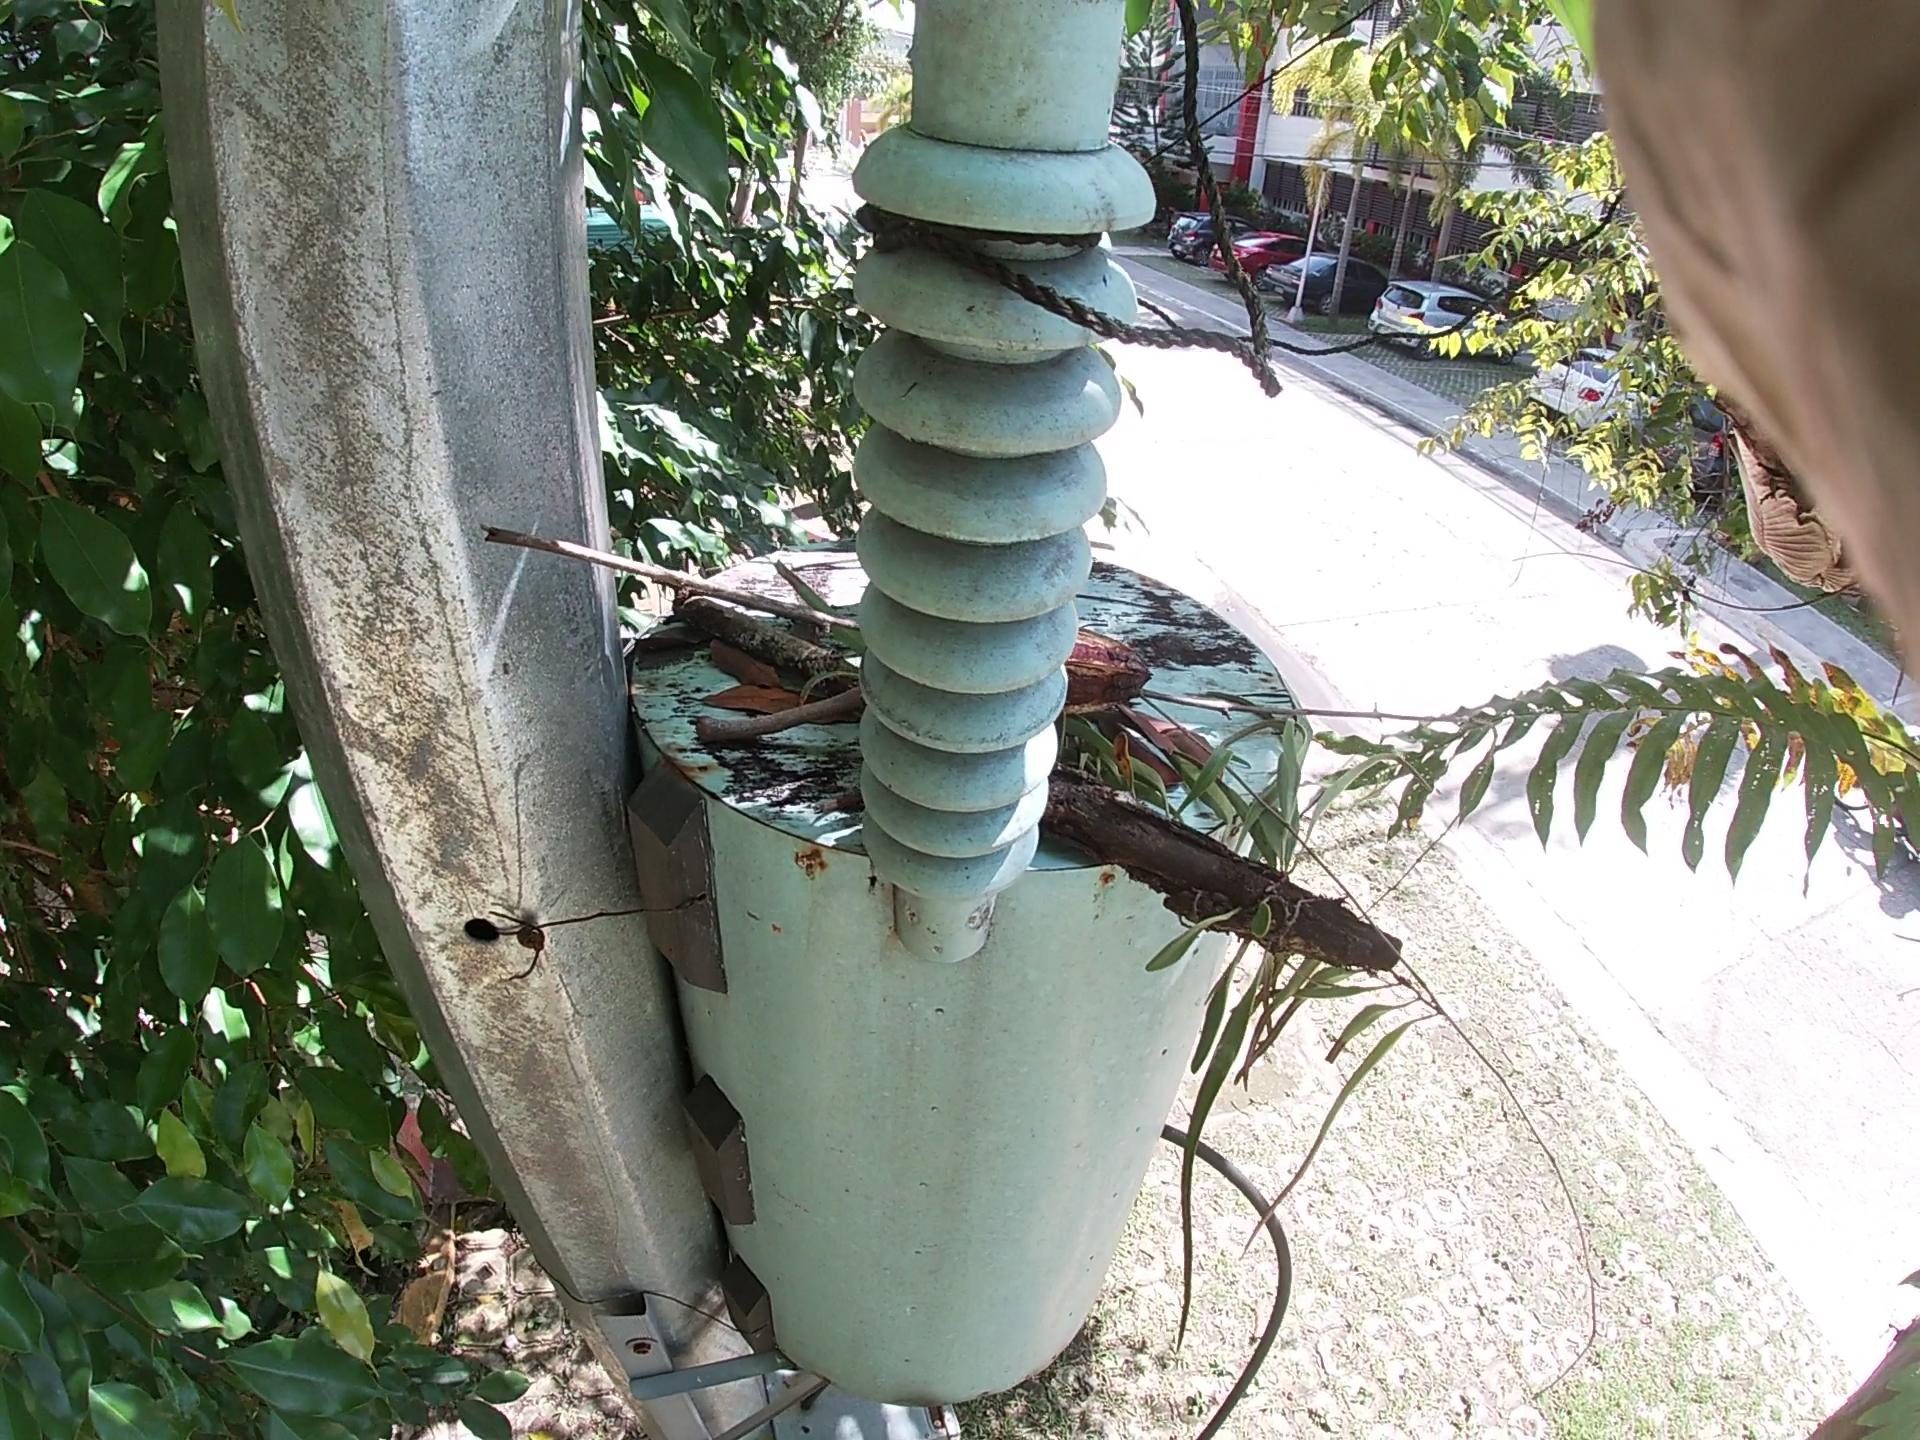branch with leaves: (655, 573, 1407, 982)
leaf: (695, 632, 785, 684), (700, 678, 807, 712)
mahogany fruit: (1011, 610, 1181, 722)
tree branch: (478, 516, 872, 647), (686, 685, 887, 749)
